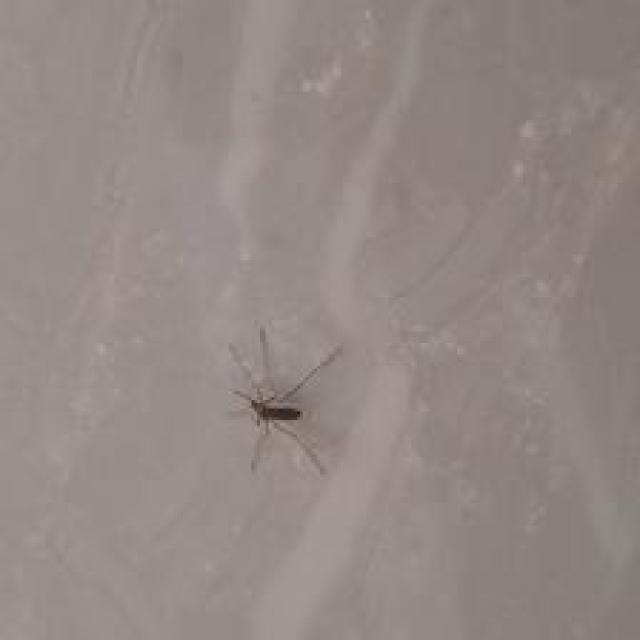Culex: (226, 323, 343, 477)
